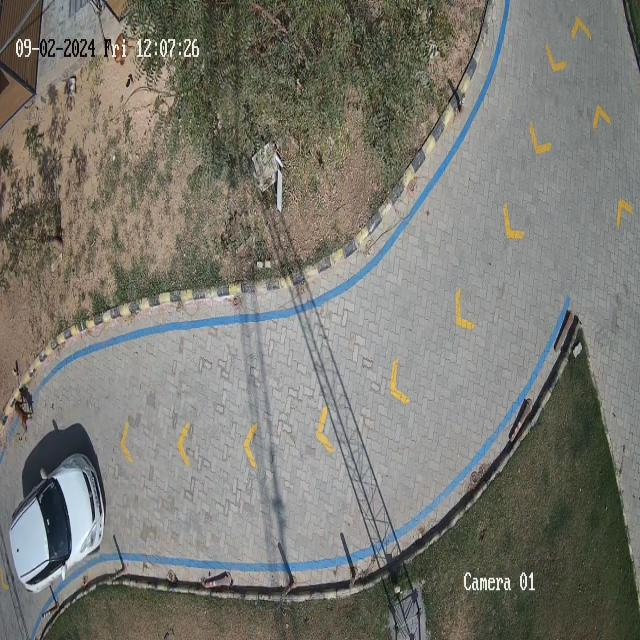car: (10, 453, 105, 591)
